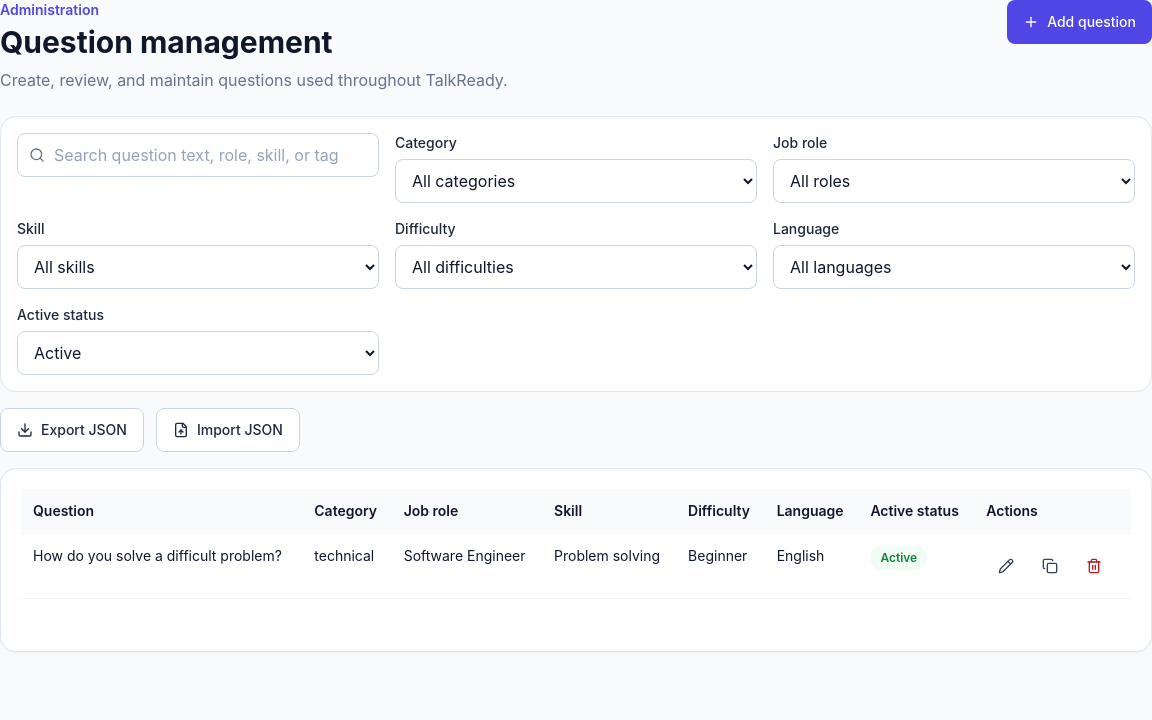
AdminQuestionsPage › edits and soft-deletes a question while showing the server deletion result
The width and height of the screenshot is (1152, 720).
Click the button named "Edit question: How do you solve a difficult problem?".
click(1006, 566)  # box [986,546,1026,586]
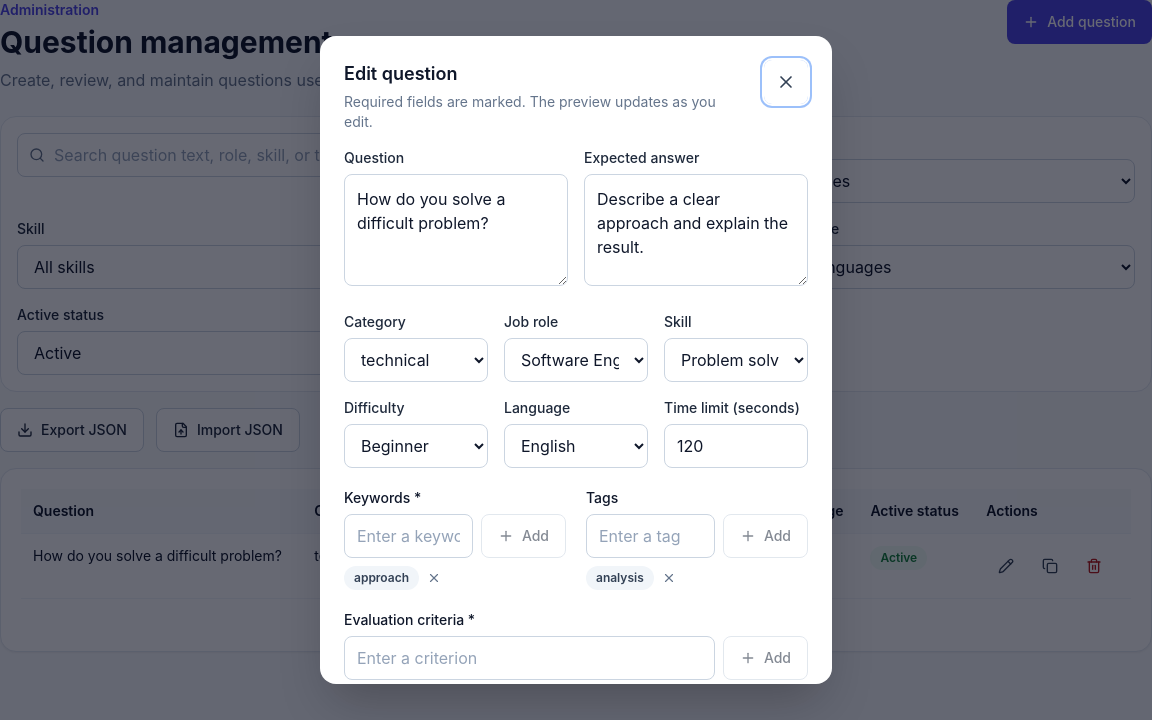
Replace the text in the text box labelled "Question" with "Updated question text" at (456, 230), box [344,174,568,286]
(page scrolled)
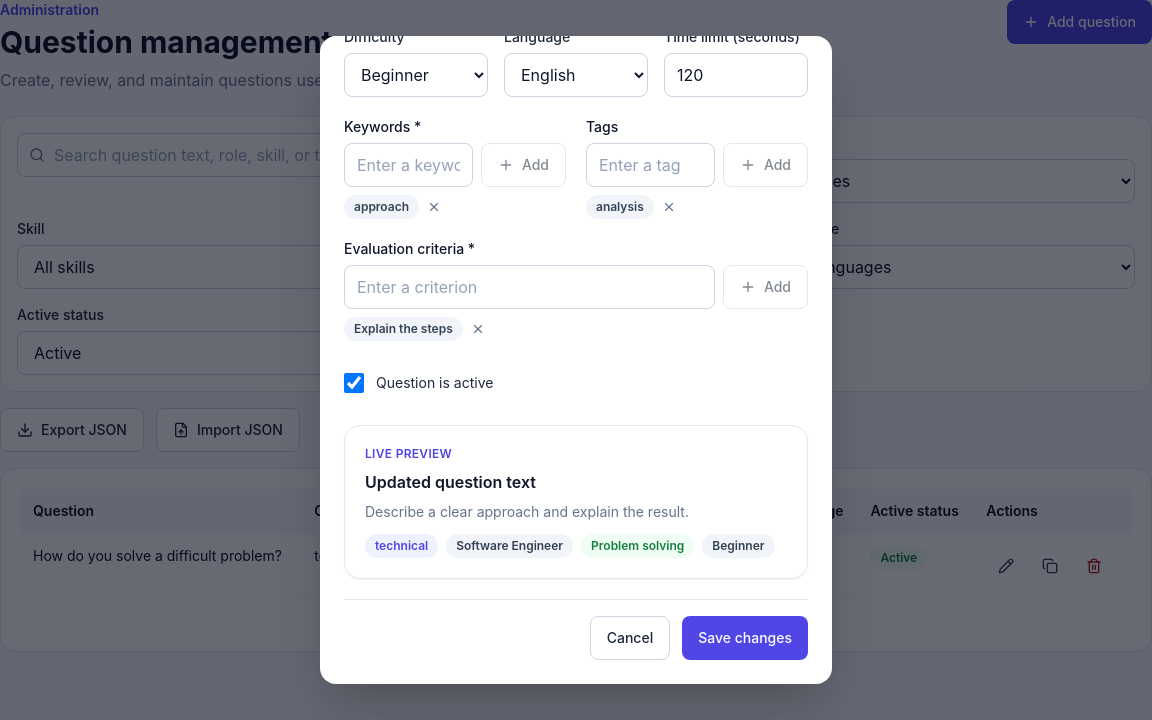
Click the button "Save changes".
click(745, 638)  # box [682,616,808,660]
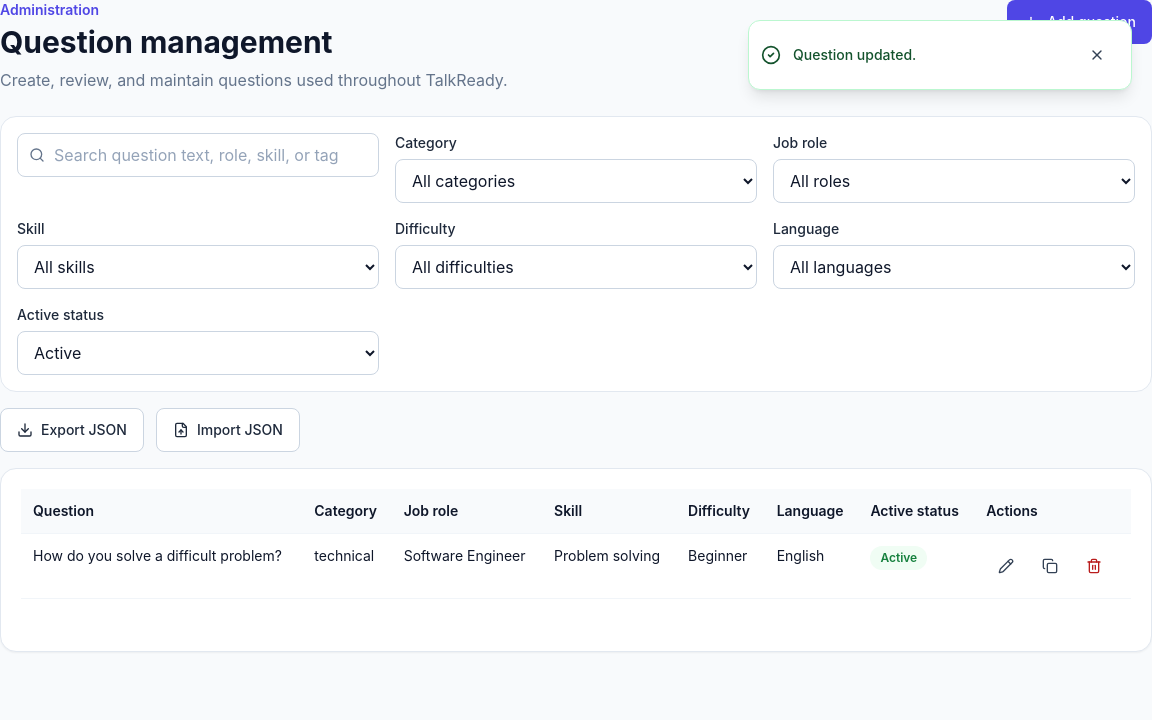
Click the button named "Delete question: How do you solve a difficult problem?".
click(1094, 566)  # box [1074,546,1114,586]
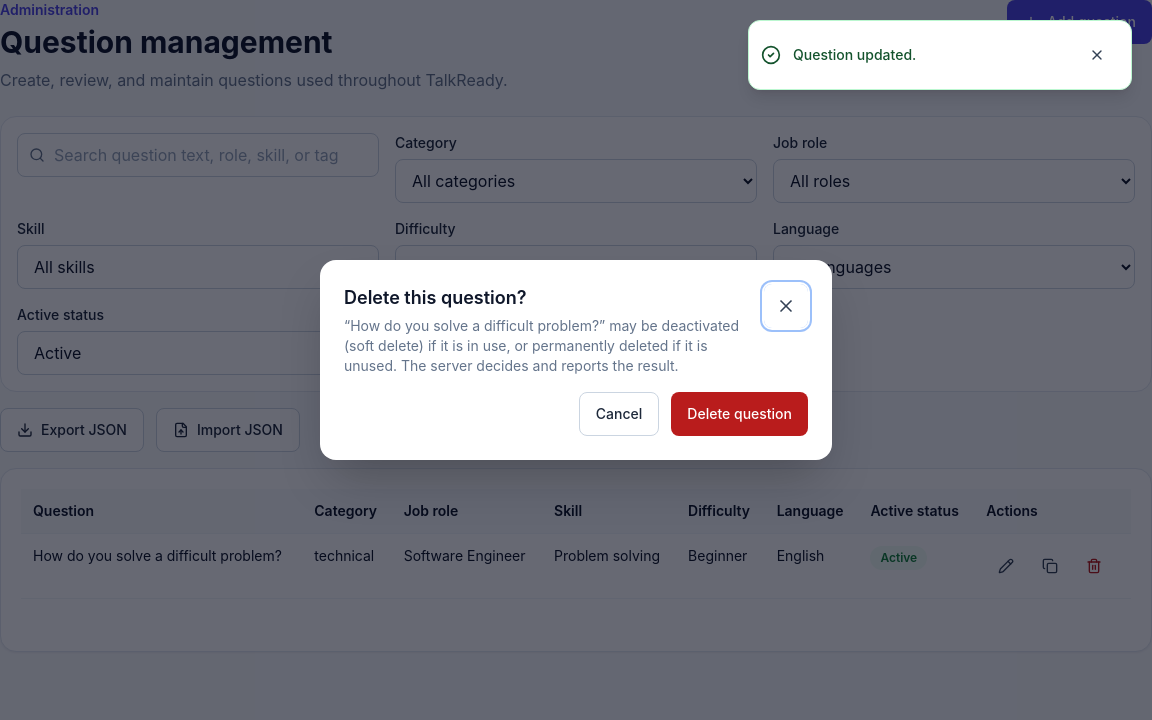
Click the button "Delete question".
click(740, 414)  # box [671,392,808,436]
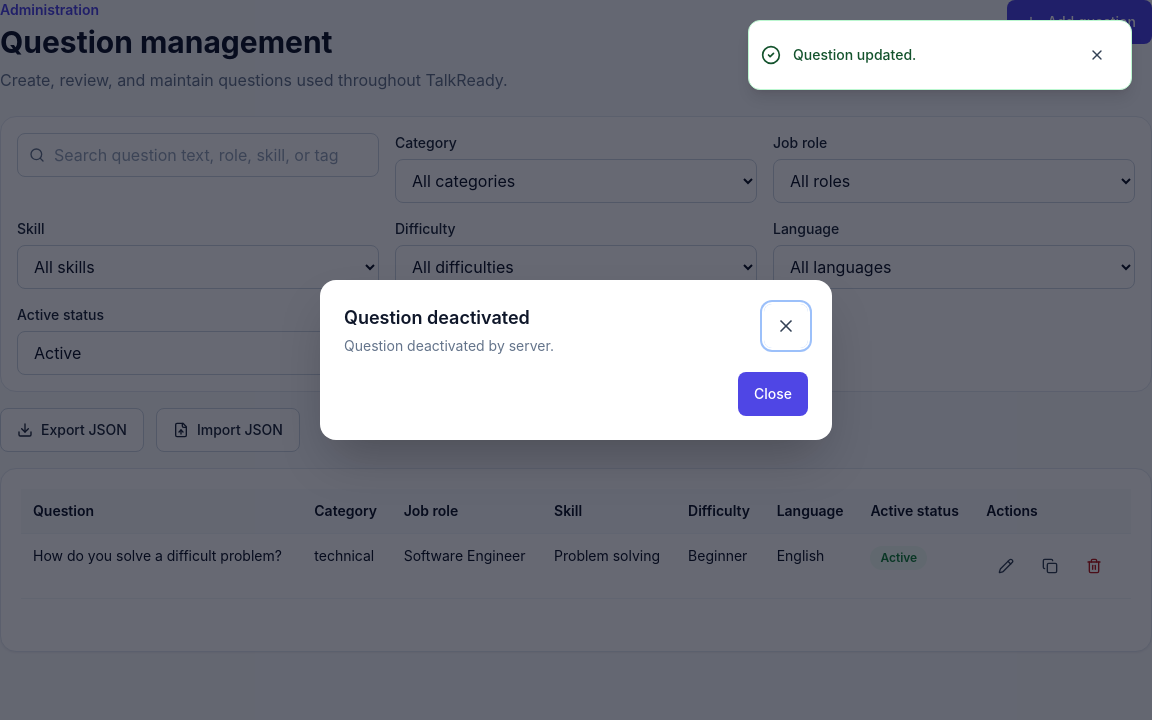
Result: the dialog "Question deactivated" is shown at [320,280,832,440]
Result: the text "Question deactivated by server." is shown at [344,336,554,356]
